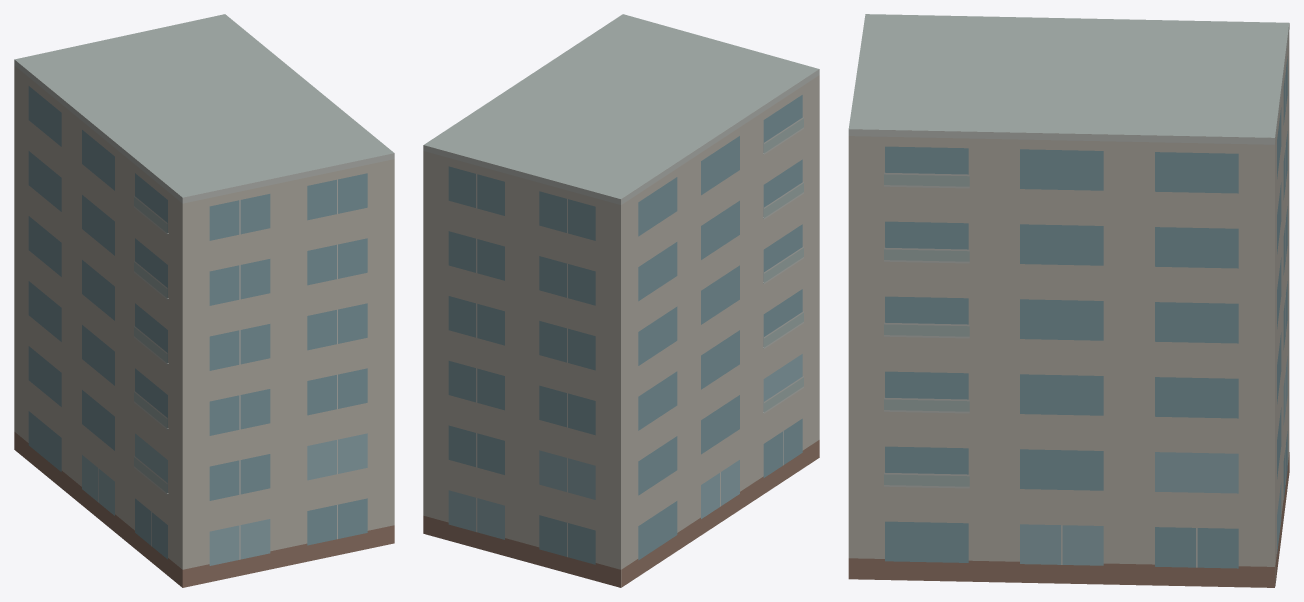
Rendered from survey-upis-32976017.glb.
The picture shows the model from 3 angles, left to right: view 1: azimuth 30°, elevation 25°; view 2: azimuth 150°, elevation 25°; view 3: azimuth 270°, elevation 25°; orthographic projection. The views are drawn at different scales.
Visible parts, largest first — view 1: survey-upis-32976017.tmp; view 2: survey-upis-32976017.tmp; view 3: survey-upis-32976017.tmp.
Boxes of the visible parts, x1,y1,x2,y2 form: survey-upis-32976017.tmp: (14,14,394,587); survey-upis-32976017.tmp: (423,14,819,587); survey-upis-32976017.tmp: (848,14,1289,587).
Bounding box in the file's own units: 9.45 × 16 × 14.21.
